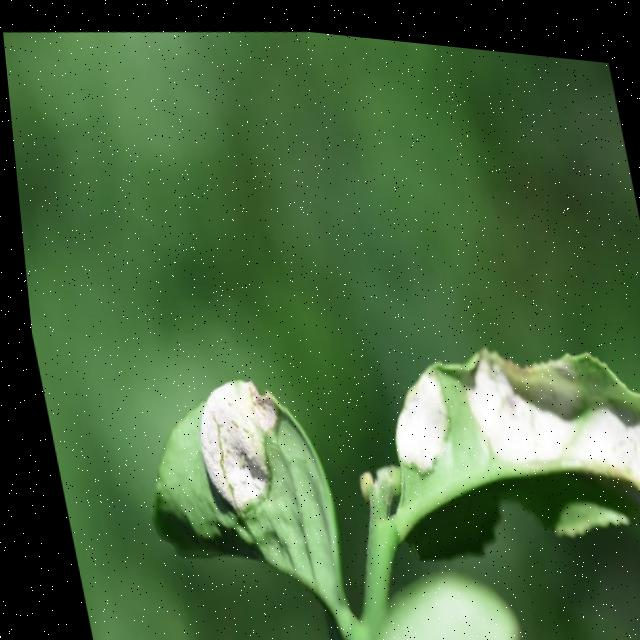Tea cake: (456, 325, 589, 476), (179, 373, 301, 500), (370, 345, 453, 475)
